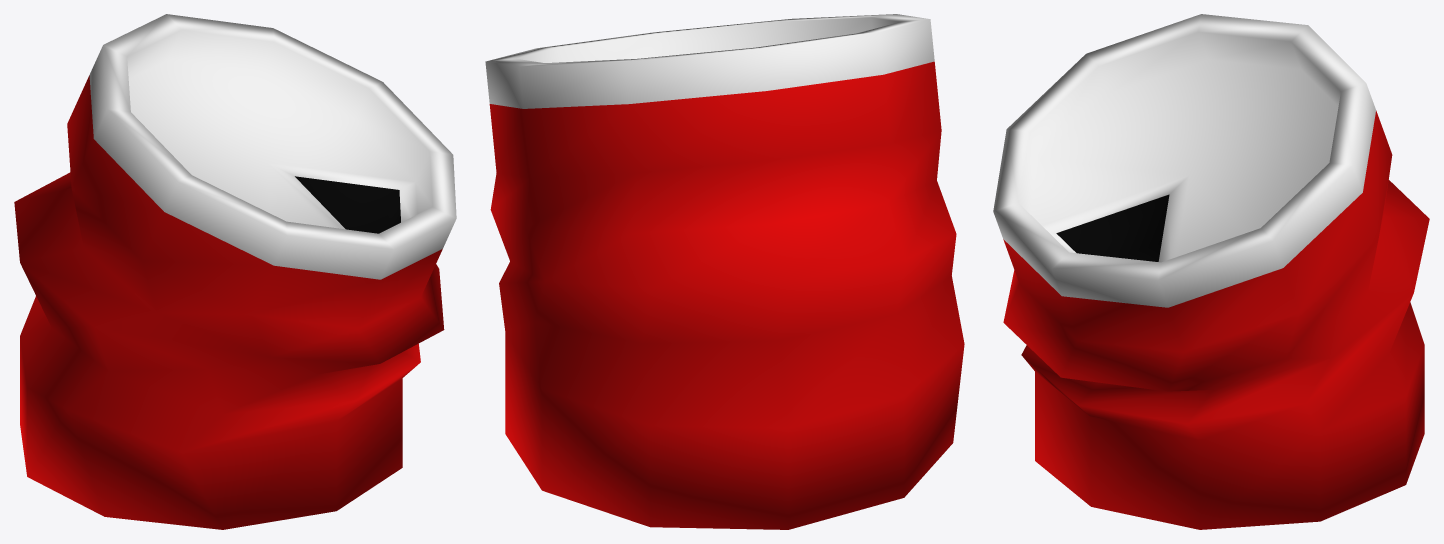
The model's file is Can squashed.fbx.
3 views of the same model, side by side, from view 1: azimuth 30°, elevation 25°; view 2: azimuth 150°, elevation 25°; view 3: azimuth 270°, elevation 25° (orthographic). The views are drawn at different scales.
Parts seen in each view (by area): view 1: pCylinder23; view 2: pCylinder23; view 3: pCylinder23.
Boxes of the visible parts, left/top/right/bottom form: pCylinder23: left=14, top=14, right=456, bottom=529; pCylinder23: left=485, top=14, right=964, bottom=529; pCylinder23: left=993, top=14, right=1429, bottom=529.
Size of the model in its own units: 0.3451 by 0.3367 by 0.3426.
